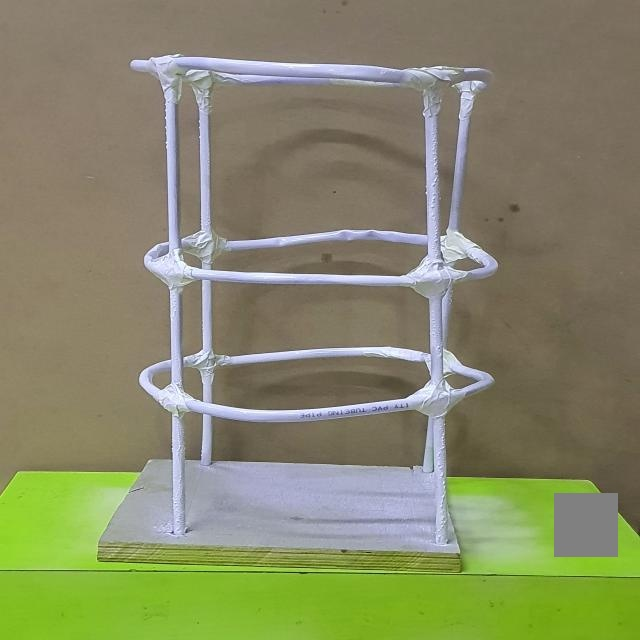silo: (128, 54, 480, 568)
